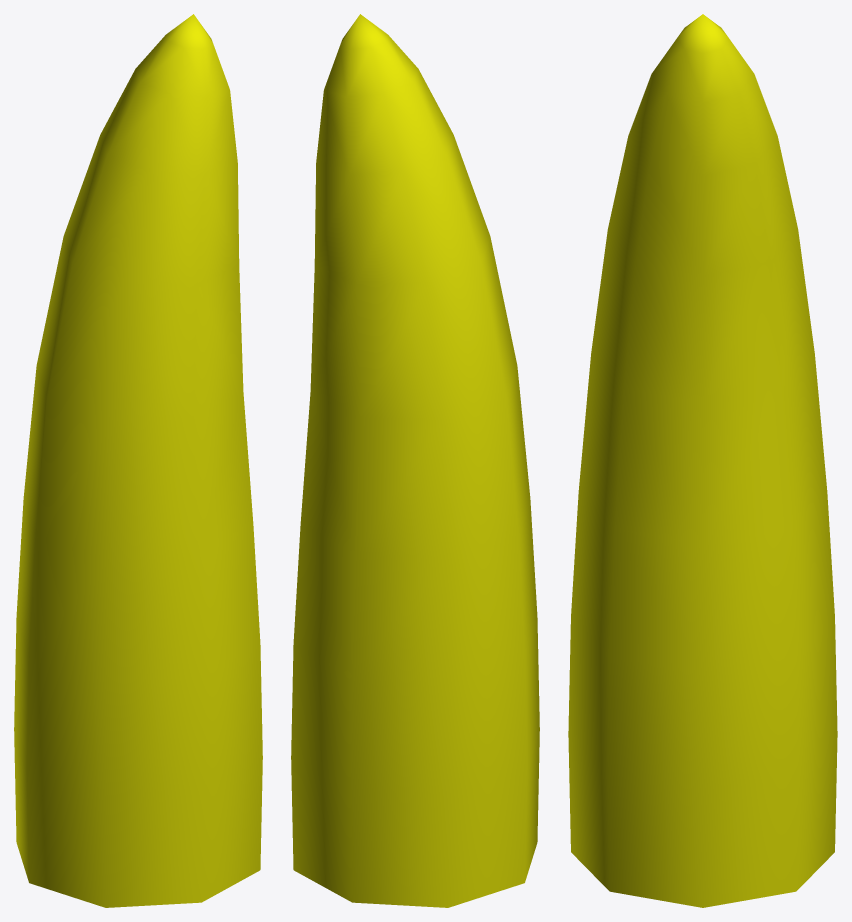
The picture shows the model from 3 angles, left to right: view 1: azimuth 30°, elevation 25°; view 2: azimuth 150°, elevation 25°; view 3: azimuth 270°, elevation 25°; orthographic projection. The views are drawn at different scales.
Visible parts, largest first — view 1: co; view 2: co; view 3: co.
Boxes of the visible parts, bbox=[...] form: co: bbox=[14, 14, 262, 907]; co: bbox=[291, 14, 539, 907]; co: bbox=[568, 14, 837, 907].
Size of the model in its own units: 0.4565 by 1.62 by 0.4565.
Materials: 1 (1 with a texture image).
